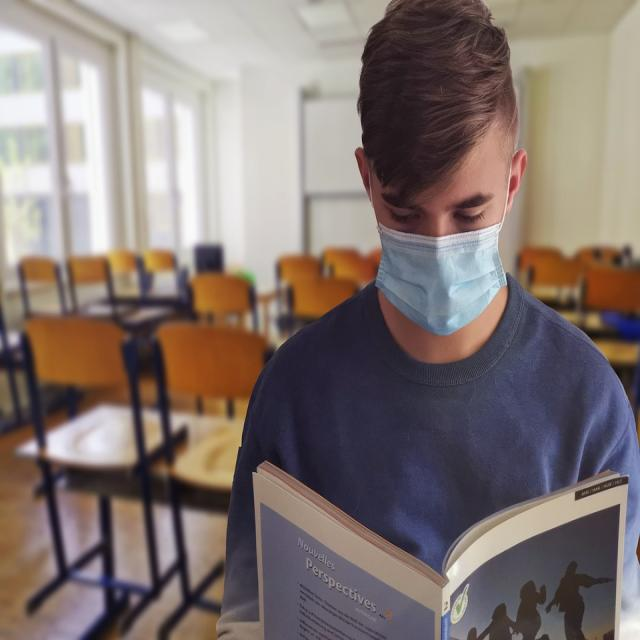1_mascarilla: (378, 224, 510, 331)
